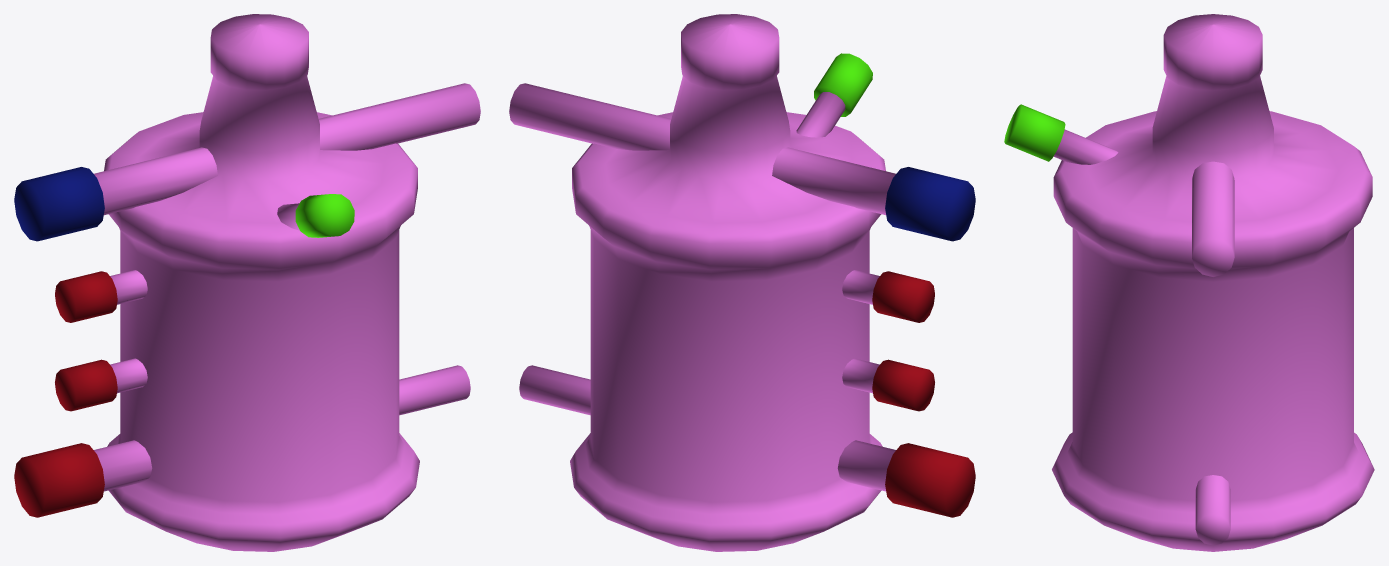
File: oxygenator.fbx
3 renders of one model, left to right at view 1: azimuth 30°, elevation 25°; view 2: azimuth 150°, elevation 25°; view 3: azimuth 270°, elevation 25°, orthographic.
Parts seen in each view (by area): view 1: Oxygenator; view 2: Oxygenator; view 3: Oxygenator.
Part boxes in pixels (x1,y1,x2,y2): Oxygenator: (14, 14, 480, 551); Oxygenator: (509, 14, 975, 551); Oxygenator: (1004, 14, 1374, 551).
Bounding box in the file's own units: 19.52 × 20.49 × 14.23.
